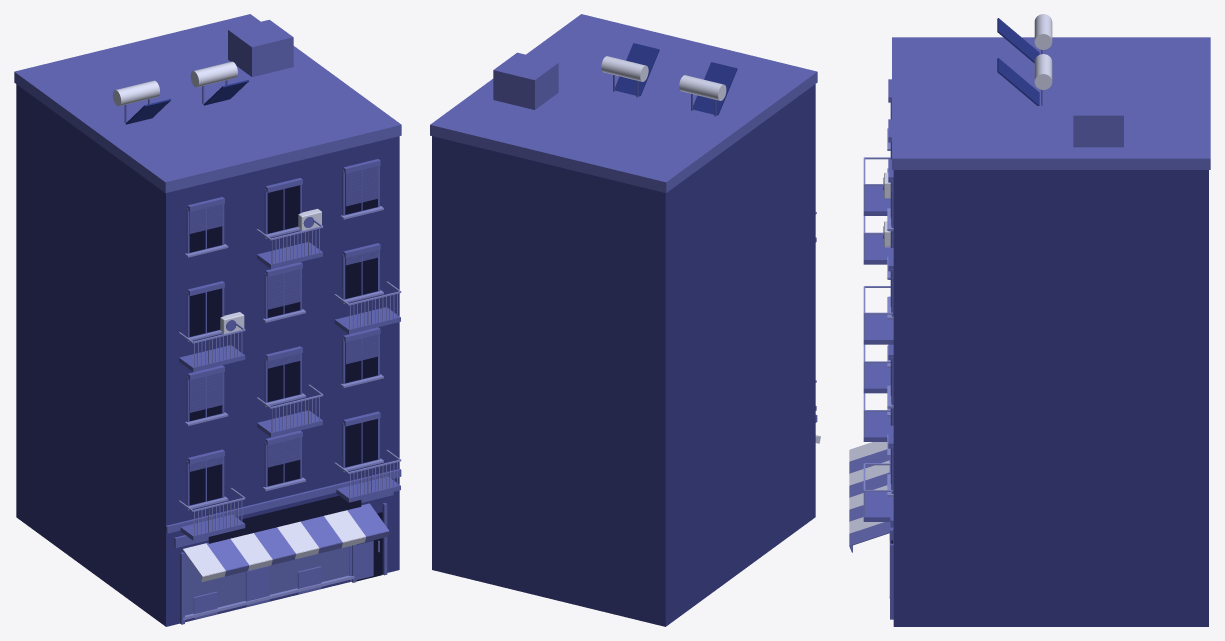
File: storefront.glb
The picture shows the model from 3 angles, left to right: view 1: azimuth 30°, elevation 25°; view 2: azimuth 150°, elevation 25°; view 3: azimuth 270°, elevation 25°; orthographic projection. The views are drawn at different scales.
Parts seen in each view (by area): view 1: body, roof, glass (×9), awningCloth, slab (×6), shutter (×6), shop, shopWindow, roofBox, sign, band0, tank (×2) (+6 smaller); view 2: body, roof, roofBox, panel (×2), tank (×2); view 3: body, roof, slab (×6), awningCloth, roofBox, panel (×2), tank (×2).
Part boxes in pixels (x1,y1,x2,y2): body: (16, 84, 399, 626); roof: (14, 14, 401, 193); glass (×9): (189, 185, 377, 505); awningCloth: (182, 503, 389, 582); slab (×6): (179, 242, 400, 540); shutter (×6): (189, 166, 378, 467); shop: (180, 503, 387, 624); shopWindow: (185, 546, 349, 615); roofBox: (228, 19, 293, 76); sign: (208, 495, 361, 543); band0: (166, 469, 401, 533); tank (×2): (113, 61, 237, 106); body: (432, 84, 815, 626); roof: (430, 14, 817, 192); roofBox: (493, 52, 558, 109); panel (×2): (615, 43, 737, 115); tank (×2): (601, 56, 726, 100); body: (893, 170, 1208, 626); roof: (892, 37, 1210, 169); slab (×6): (863, 186, 893, 521); awningCloth: (849, 442, 889, 552); roofBox: (1073, 94, 1123, 147); panel (×2): (997, 18, 1039, 105); tank (×2): (1034, 14, 1052, 89).
Bounding box in the file's own units: 9.1 × 17.63 × 11.45.
